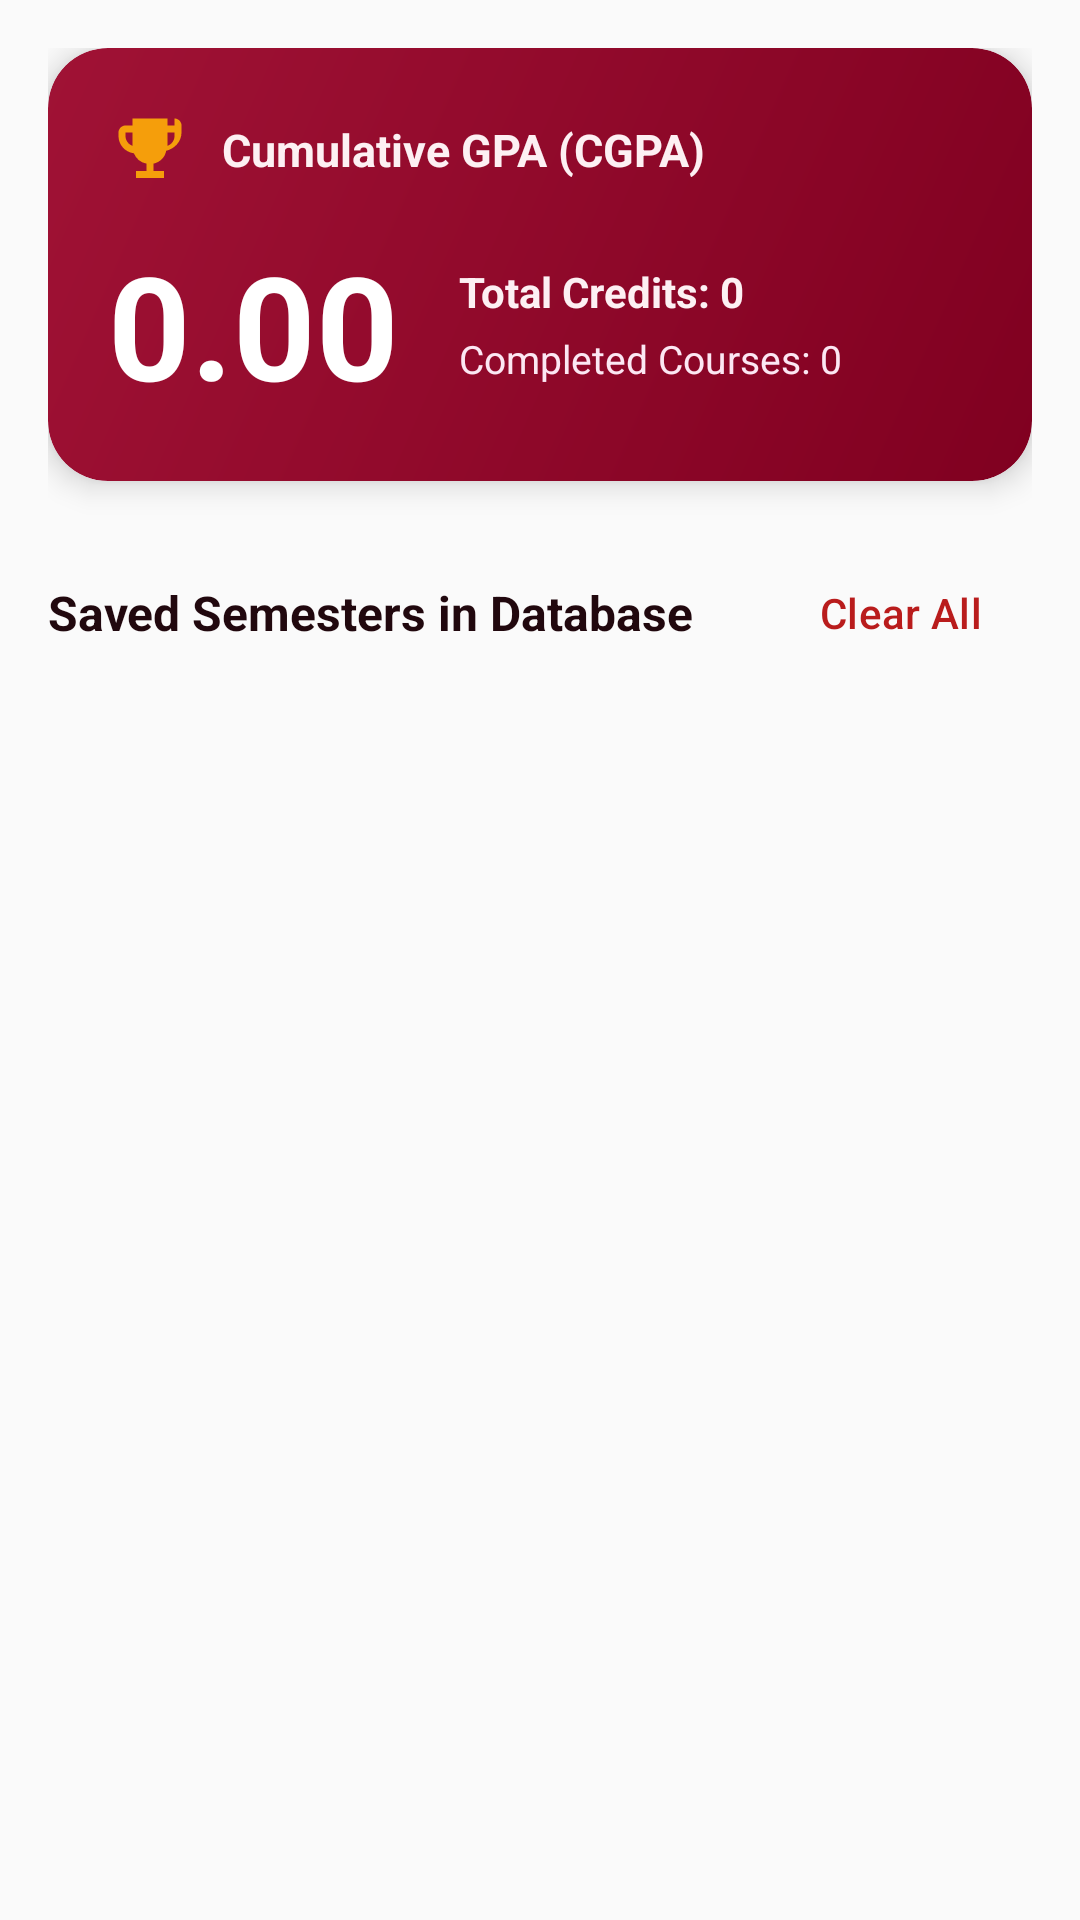

Screen size 1080 × 1920. Icon name, then its center in pixels as [x,y]:
trophy: [150,148]
